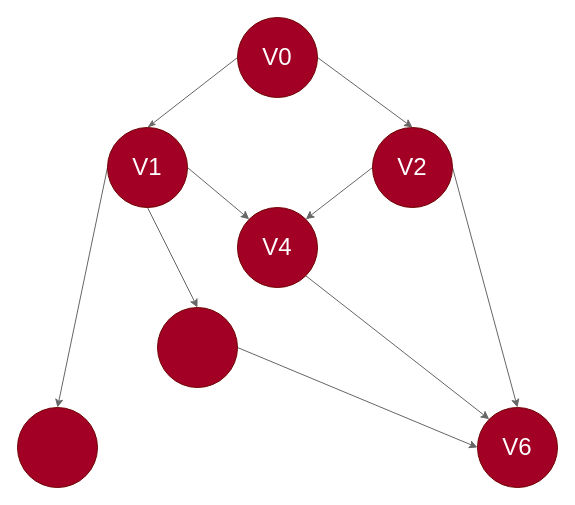
Some shapes in this 575 by 505 pixel diagram are drawn without their labels. Each missing label, with the centre of its shape:
"V3" belongs at point (57, 447).
"V5" belongs at point (197, 347).
